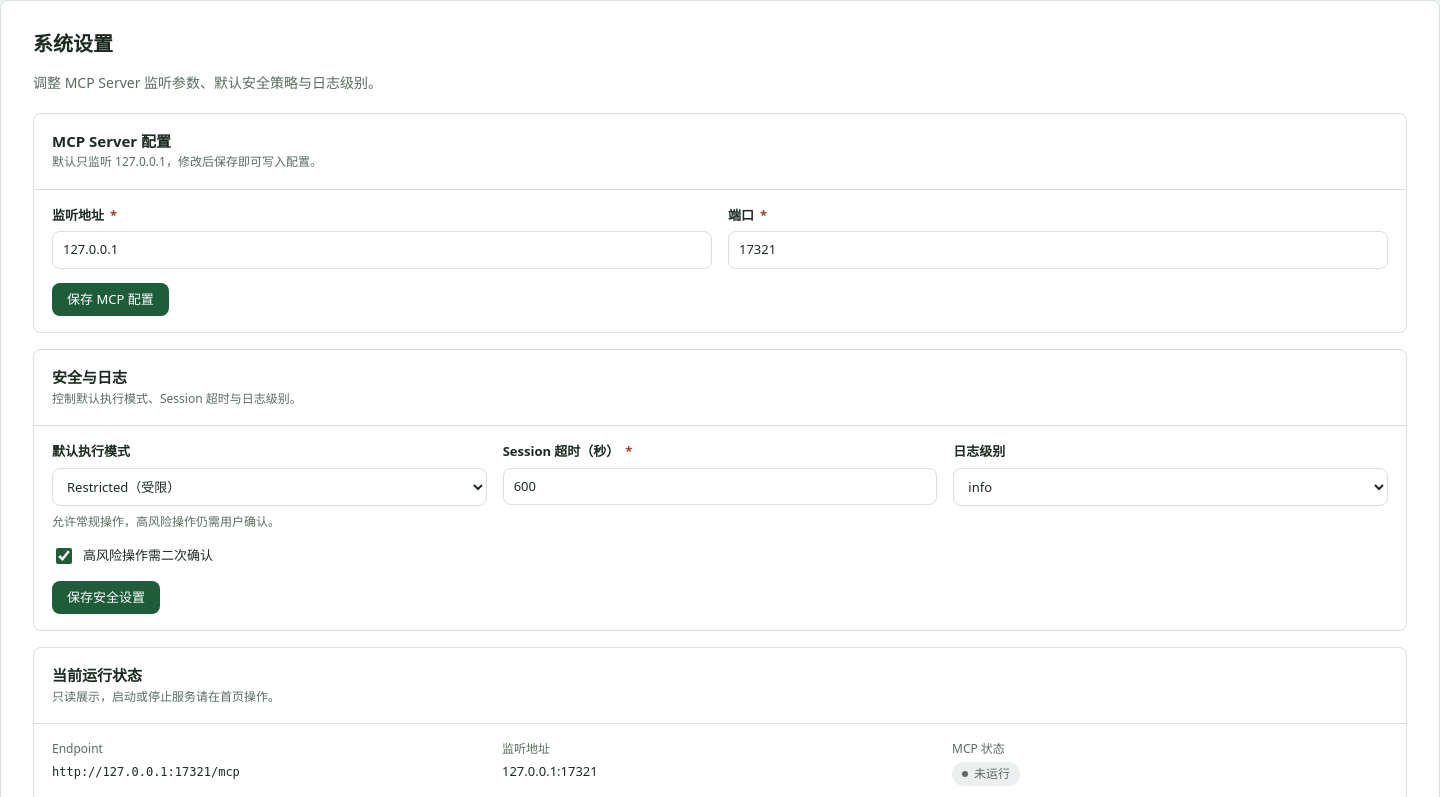
it: 系统设置 - MCP 配置 › 保存时提交正确的监听地址与端口
Type "127.0.0.2" into the field labelled "监听地址".
click(382, 250); type("127.0.0.2")  # box x1=52 y1=231 x2=712 y2=269
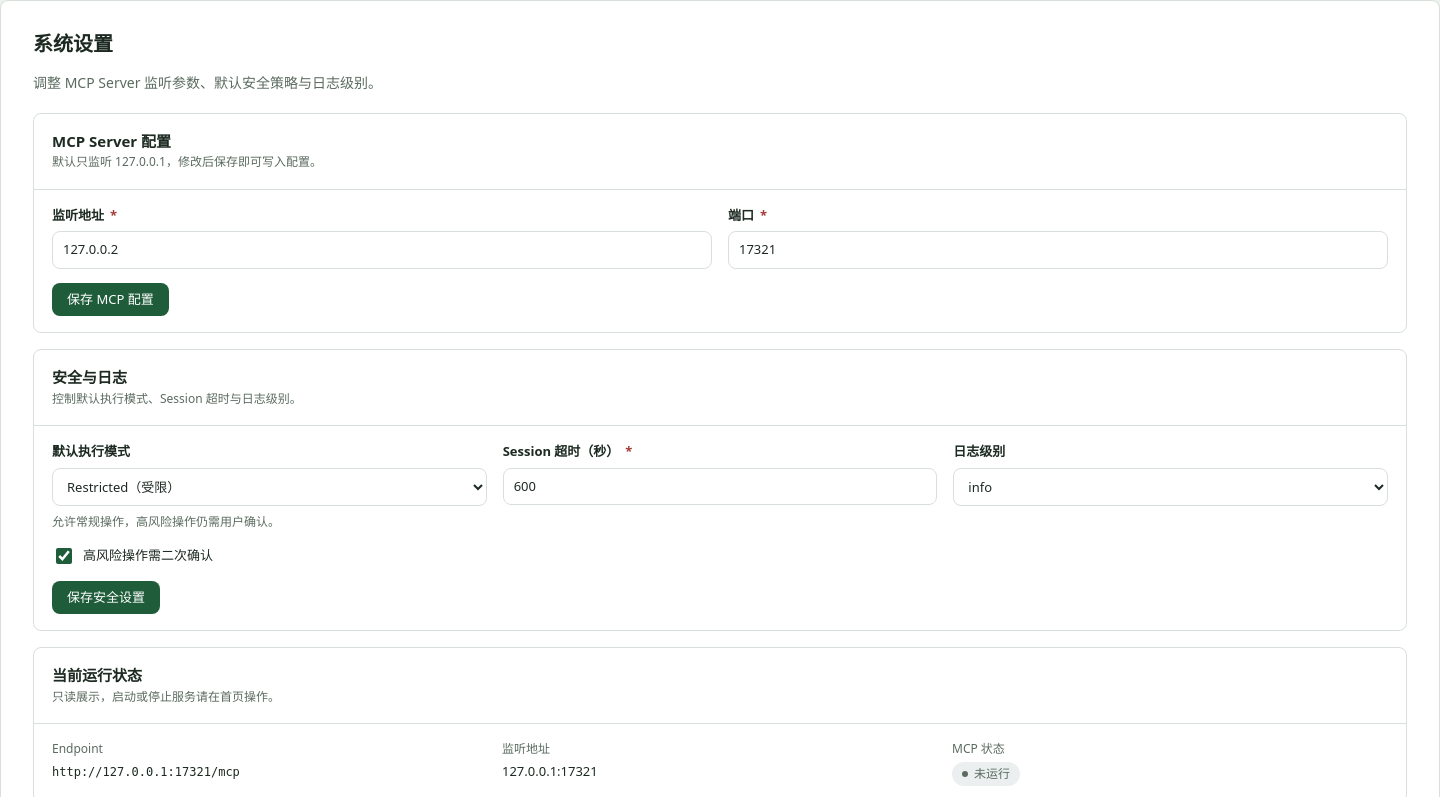
Replace the text in the number field labelled "端口" with "18080" at (1058, 250), box x1=728 y1=231 x2=1388 y2=269
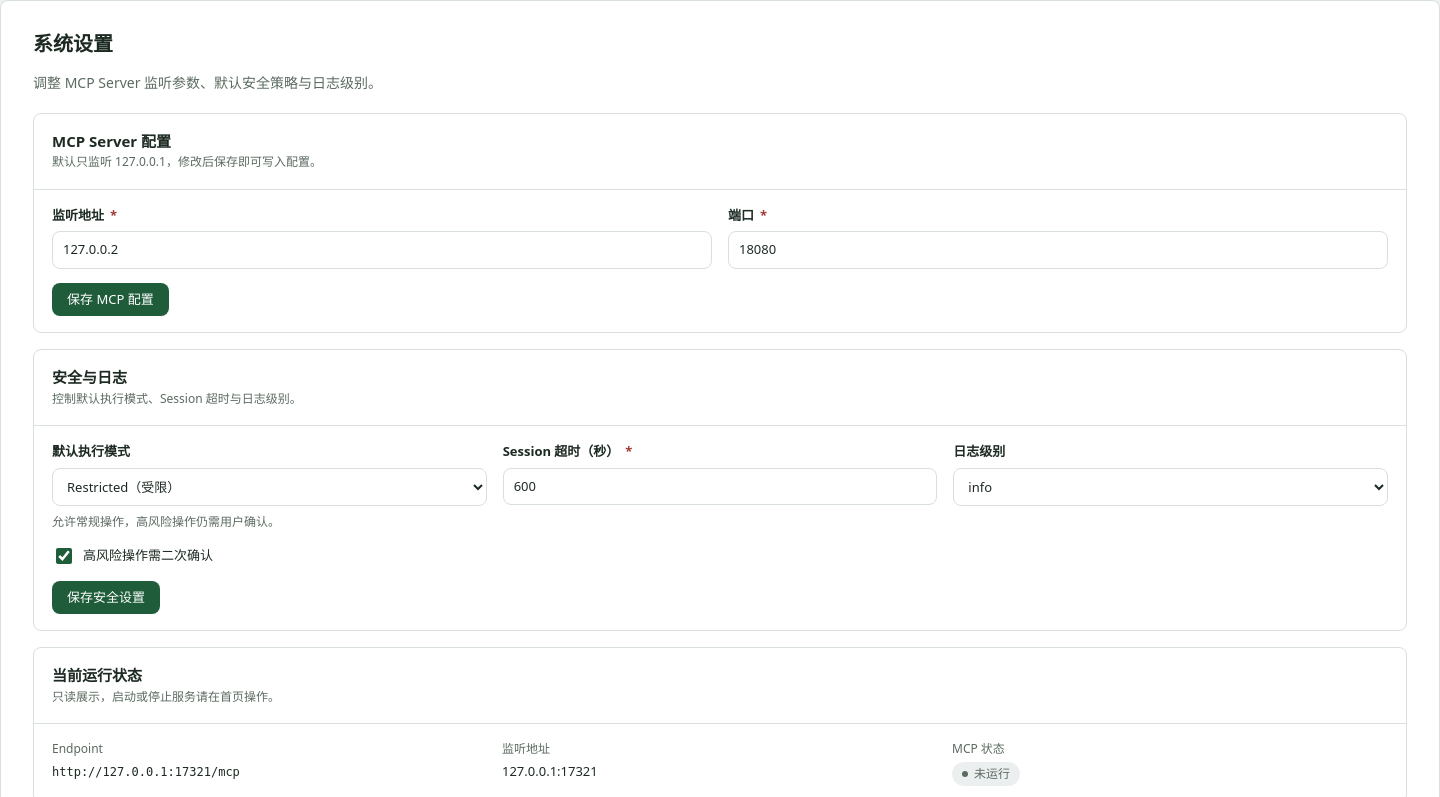
Click the button "保存 MCP 配置".
click(110, 300)  # box x1=52 y1=283 x2=169 y2=316
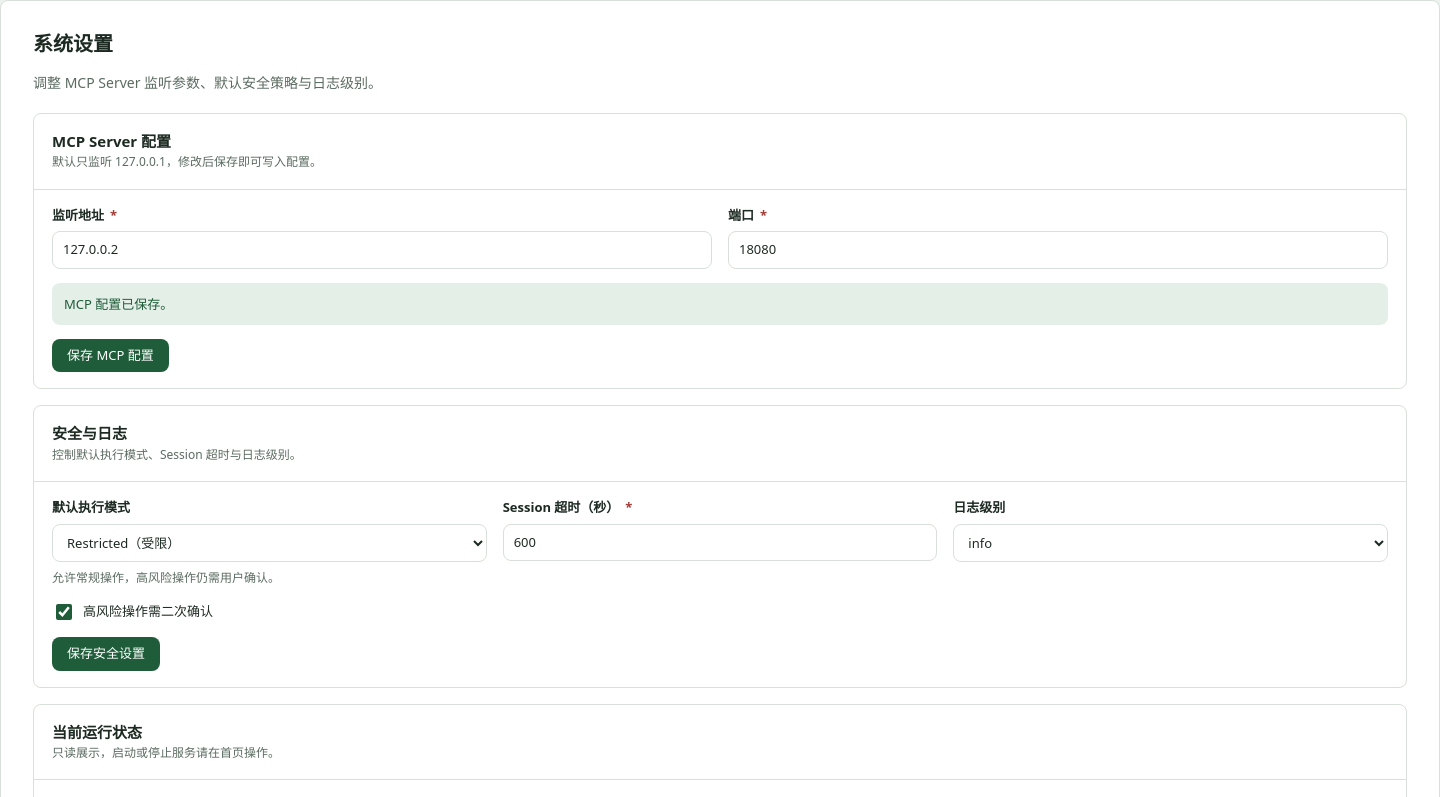
expect the text "MCP 配置已保存。" is shown: met, box x1=52 y1=283 x2=1388 y2=325
